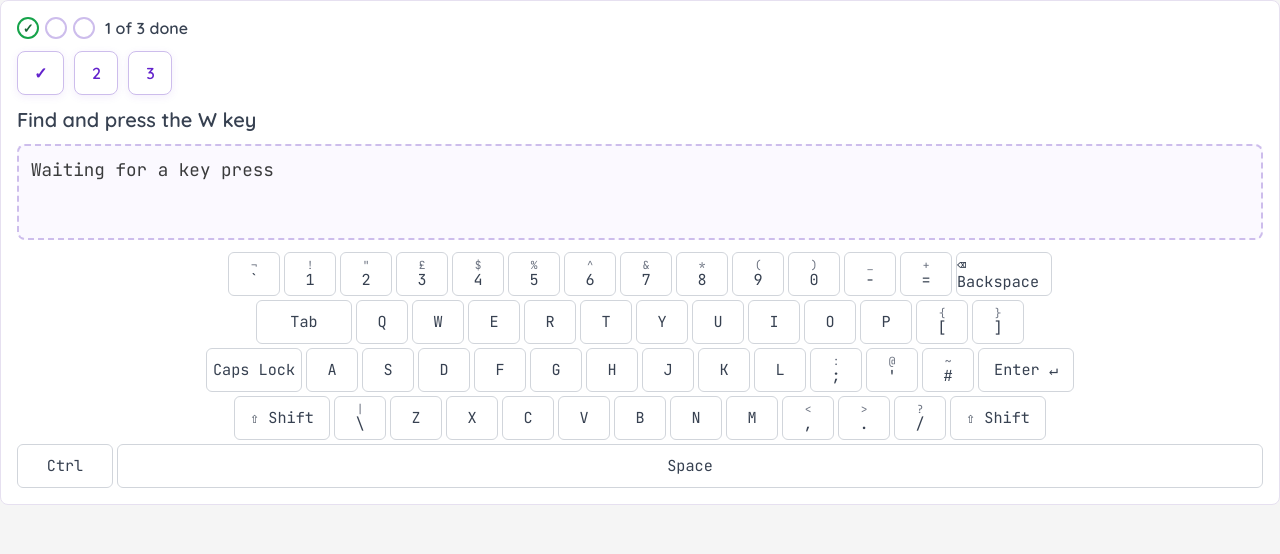
Test case: Keyboard UI: one round › shows a tutor every item through the tutor-only picker
Expected: the text "Find and press the W key" is shown, [17,107,256,132]
What coordinates should you click on to do the following:
click the button named "Item 1, done"
I would click on:
 (41, 73)
Its box is [17,51,64,95].
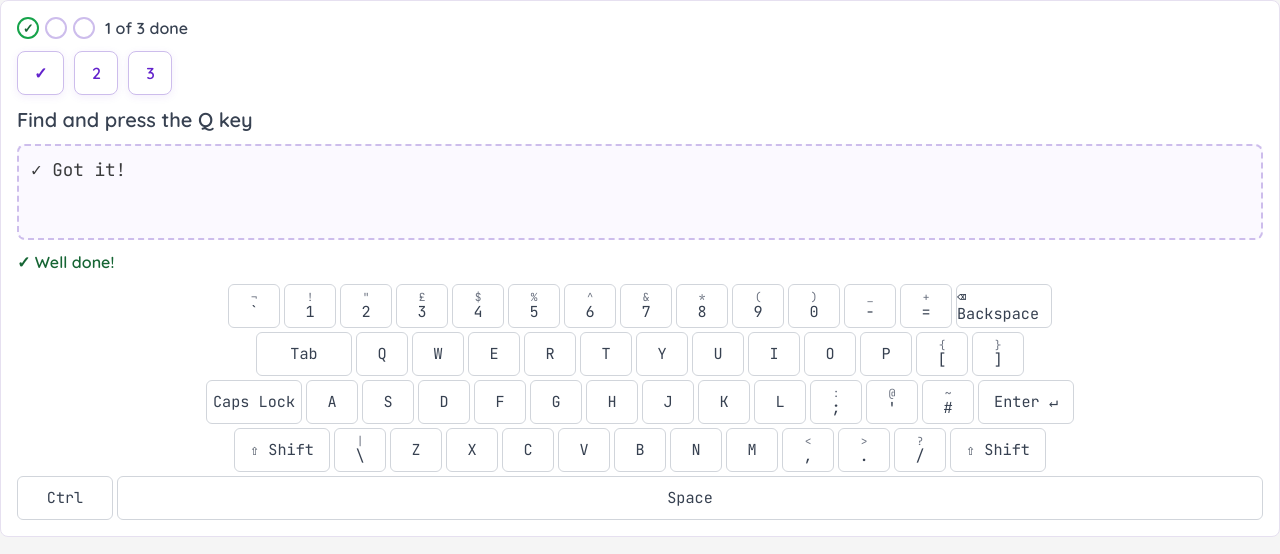
Expected: the text "Find and press the Q key" is shown, [17,107,253,132]
